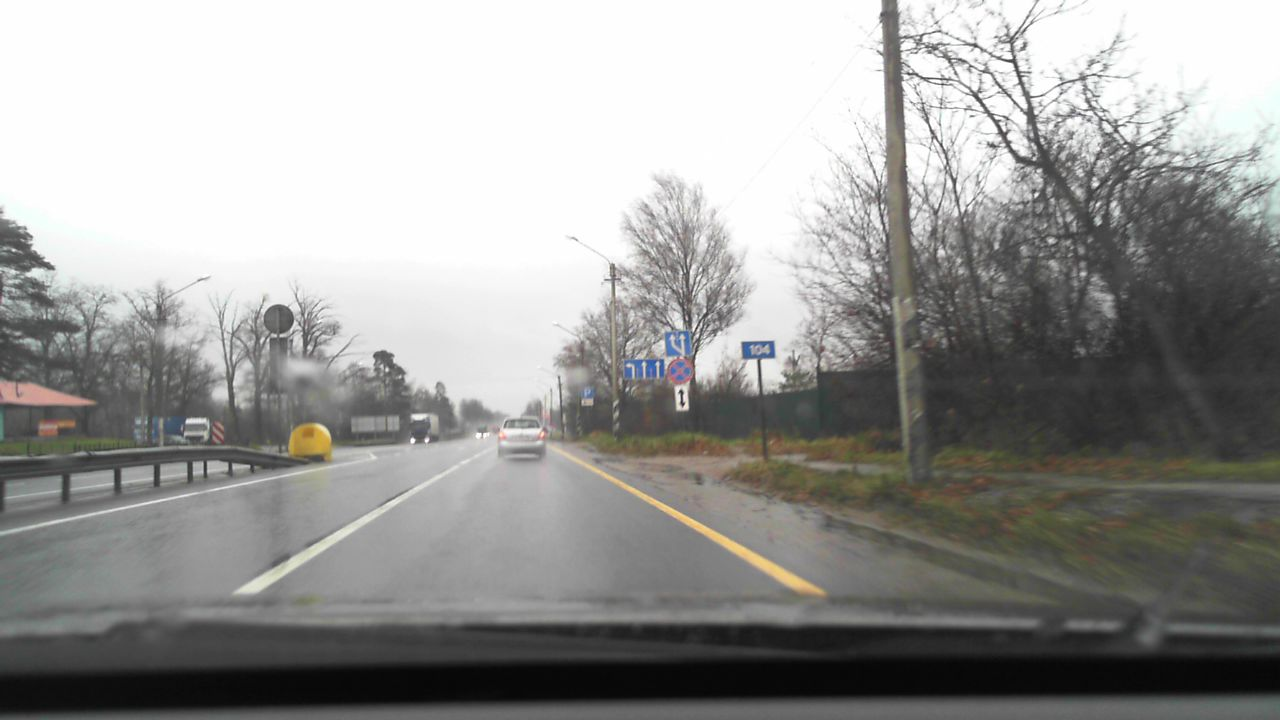No Parking: (667, 358, 693, 384)
